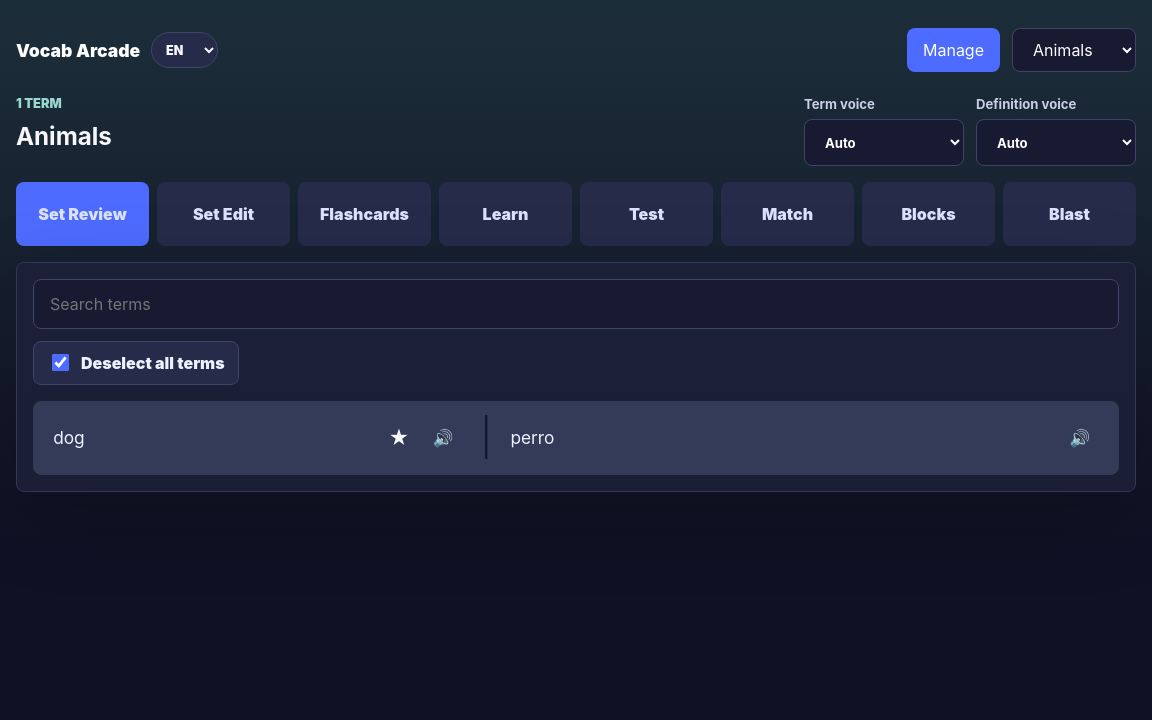
Test: App › merges source terms into target, skips duplicates, removes source, and keeps target position
The image size is (1152, 720).
Click the button "Manage": (954, 50) [907,28,1000,72]
(page scrolled)
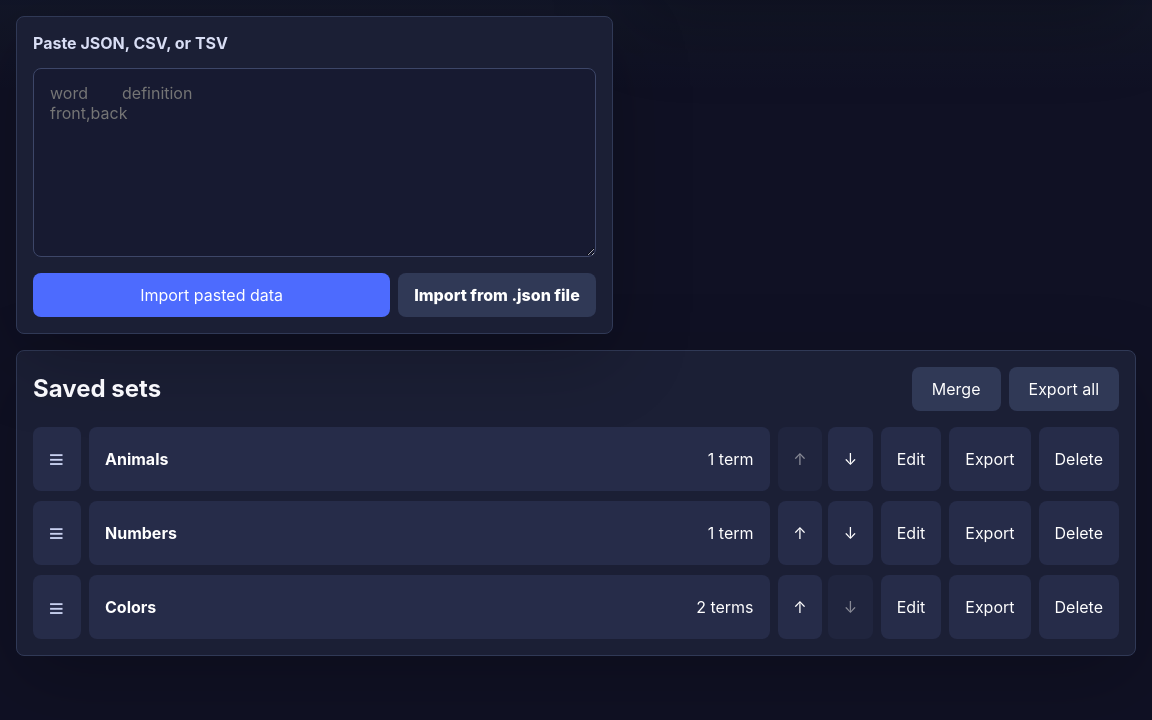
Click the button with aria-label "Merge saved sets": (956, 388) [912,366,1000,410]
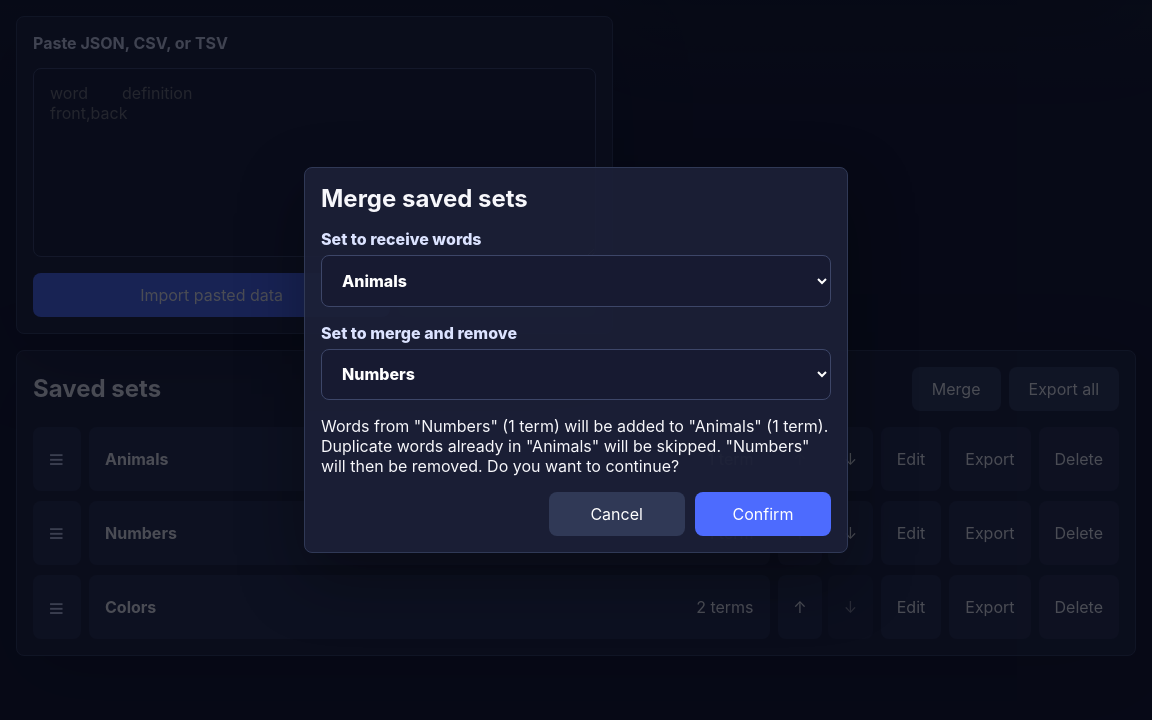
Select "Numbers" in the dropdown labelled "Set to receive words": (576, 281) [321,255,831,306]
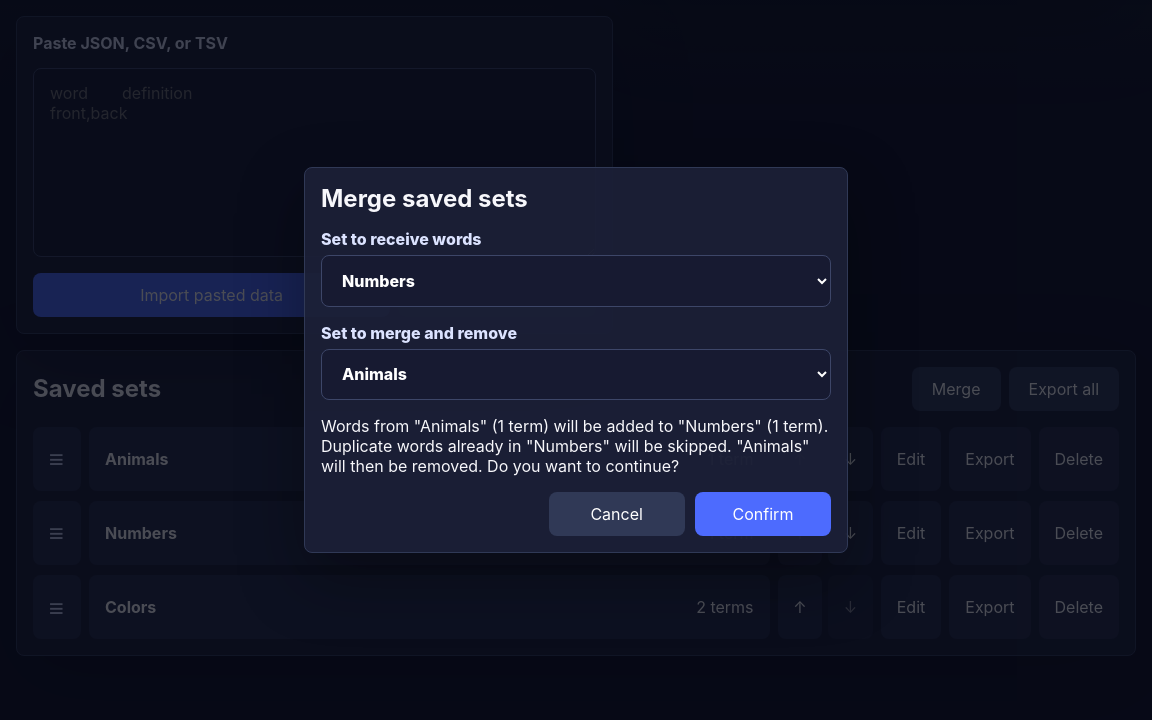
Select "Colors" in the dropdown labelled "Set to merge and remove": (576, 374) [321,349,831,400]
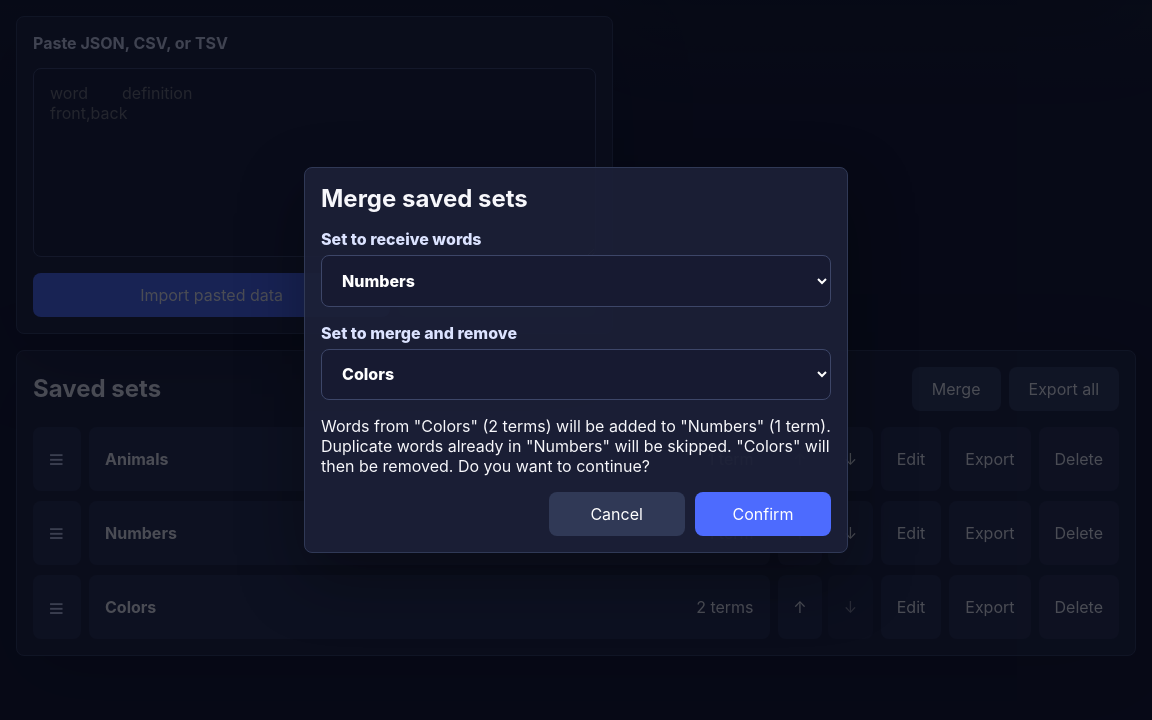
Click the button "Confirm": (763, 514) [695,492,831,536]
(page scrolled)
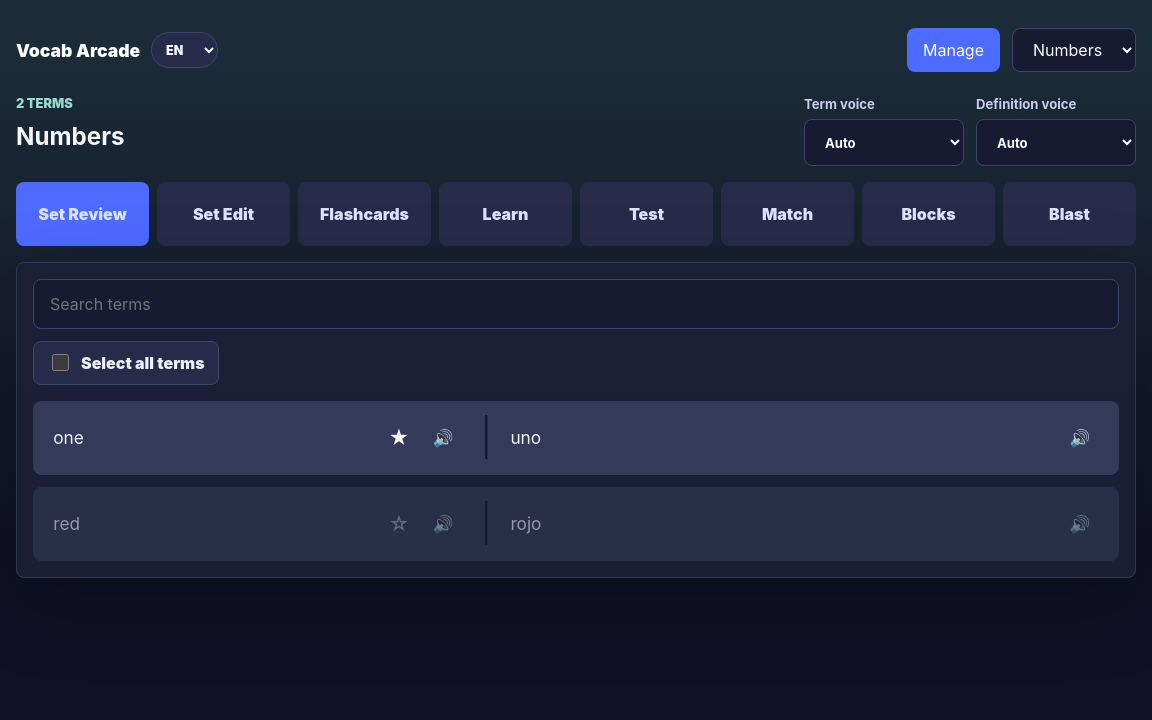
Expected: the heading "Numbers" is shown, [16,122,125,151]
Expected: the dropdown named "Saved sets" shows "Numbers", [1012,28,1136,72]
